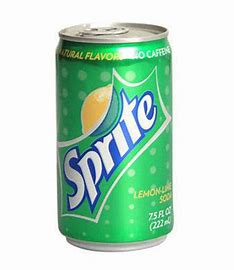Sprite: (53, 20, 176, 255)
